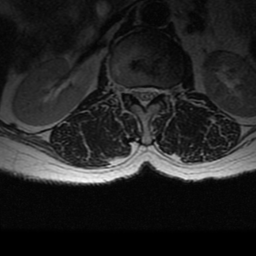CCS_normal: (140, 77, 148, 117)
LFS_stenosis: (157, 77, 166, 103)
LLS_normal: (148, 76, 157, 109)
RFS_stenosis: (122, 76, 130, 102)
RLS_normal: (130, 77, 139, 106)
